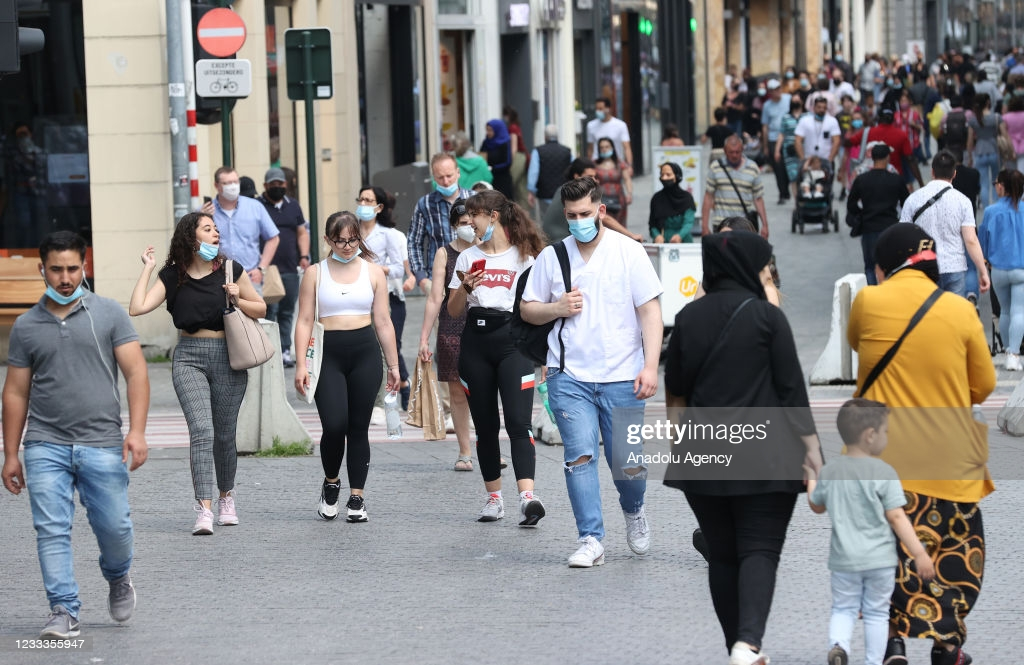with_incorrect_mask: (44, 253, 83, 307), (329, 226, 362, 266), (196, 214, 224, 260), (467, 208, 500, 241), (430, 164, 459, 194)
with_mask: (560, 200, 598, 240), (216, 172, 241, 202), (357, 187, 378, 220), (660, 161, 679, 192)
without_mask: (726, 141, 743, 168)
